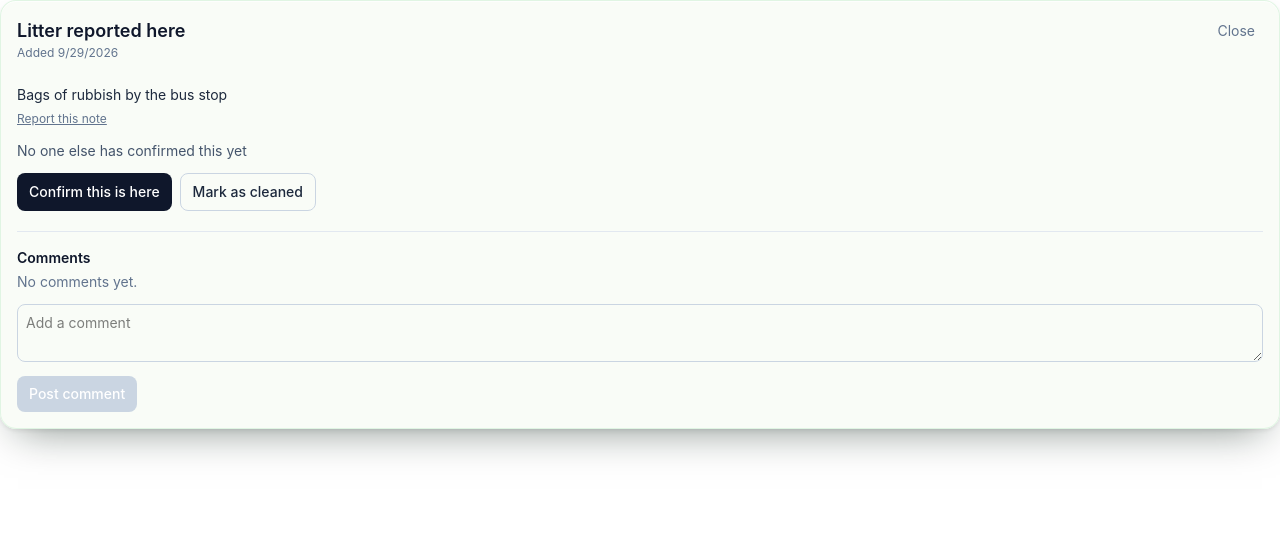
Scenario: ReportDetail — comments › posts a comment and shows it as pending review
In the text box labelled "Add a comment": (640, 333) [17,304,1263,362], type "Still here this morning"
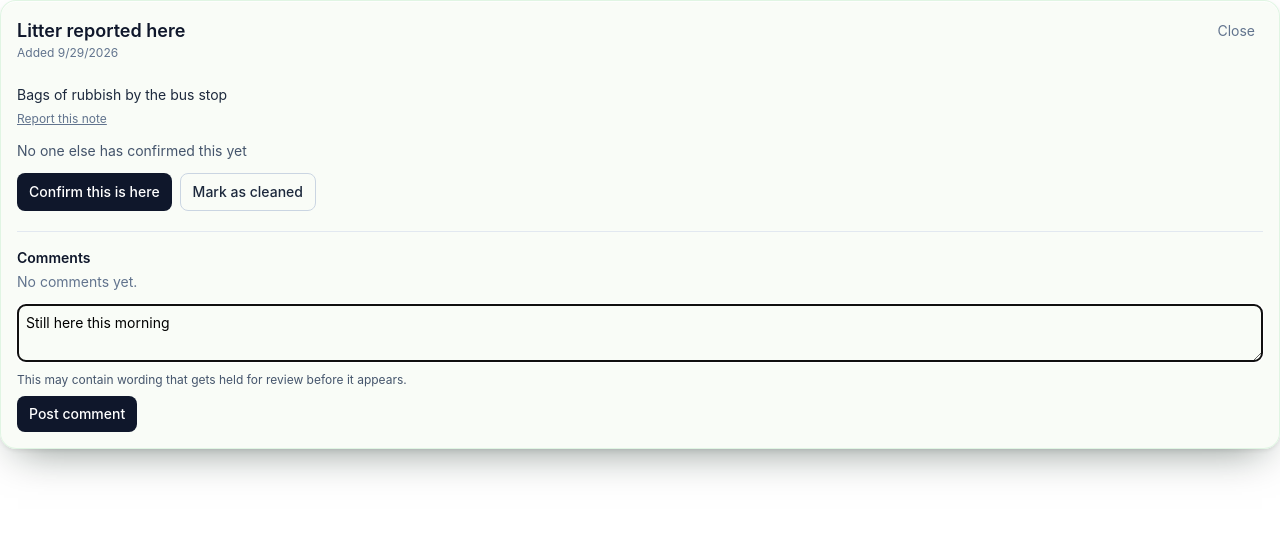
Click the button "Post comment": (77, 414) [17,396,137,432]
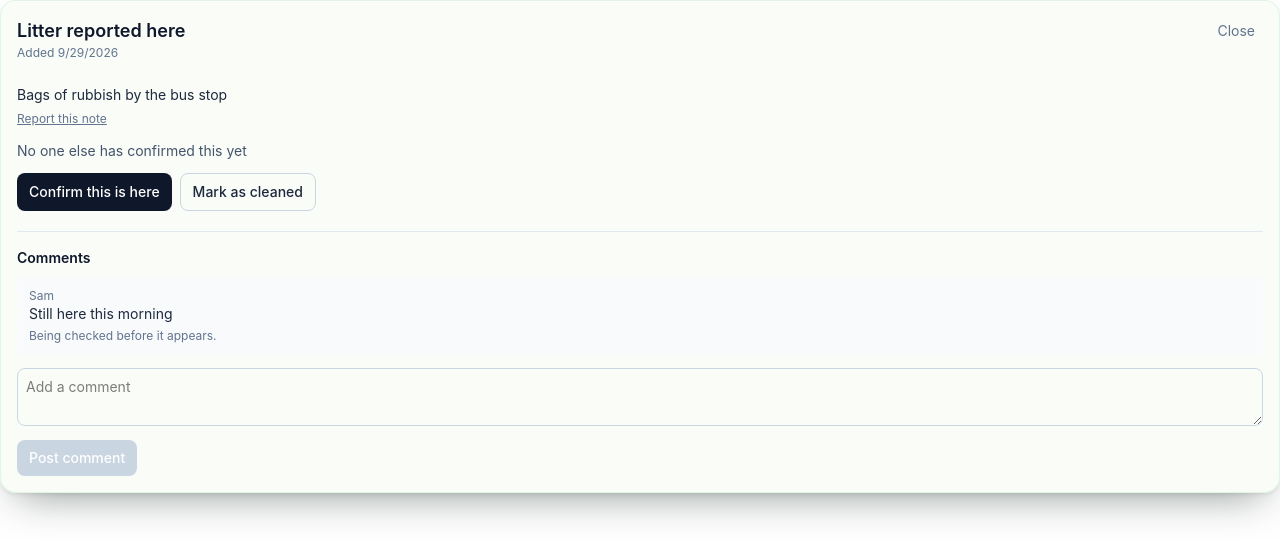
Now the text "Still here this morning" is shown, box [29,305,172,322]
Now the text "Being checked before it appears." is shown, box [29,328,216,343]
